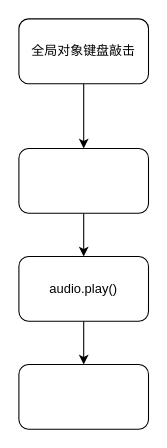
Image size: 167x448. Some labels were removed from this diagram. Here are the shapes that lost their labels. From the top down, the centre of each, then its label:
At [83,180]: "键对应的元素添加类：playing".
At [83,396]: "transitionend事件触发后移除playing类名".
